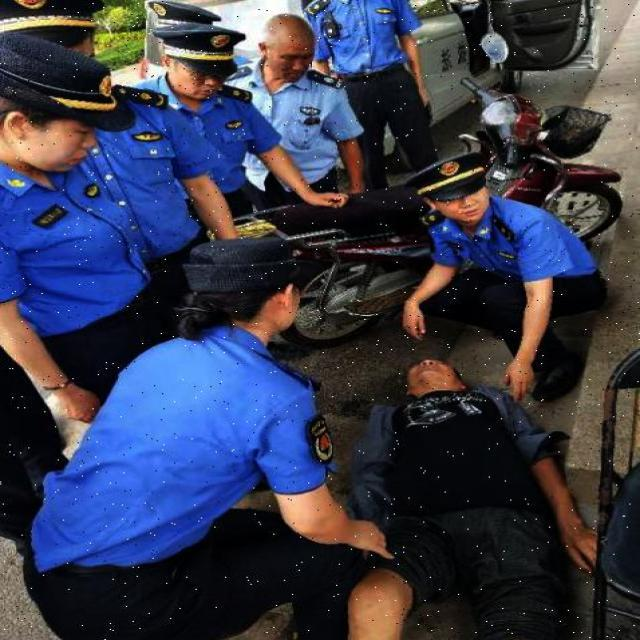fall: (346, 353, 570, 639)
